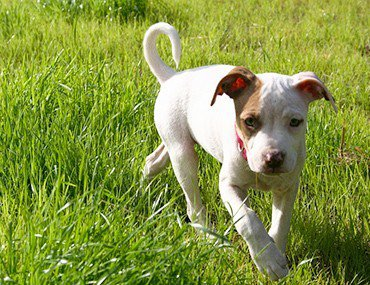dog: (139, 21, 329, 281)
